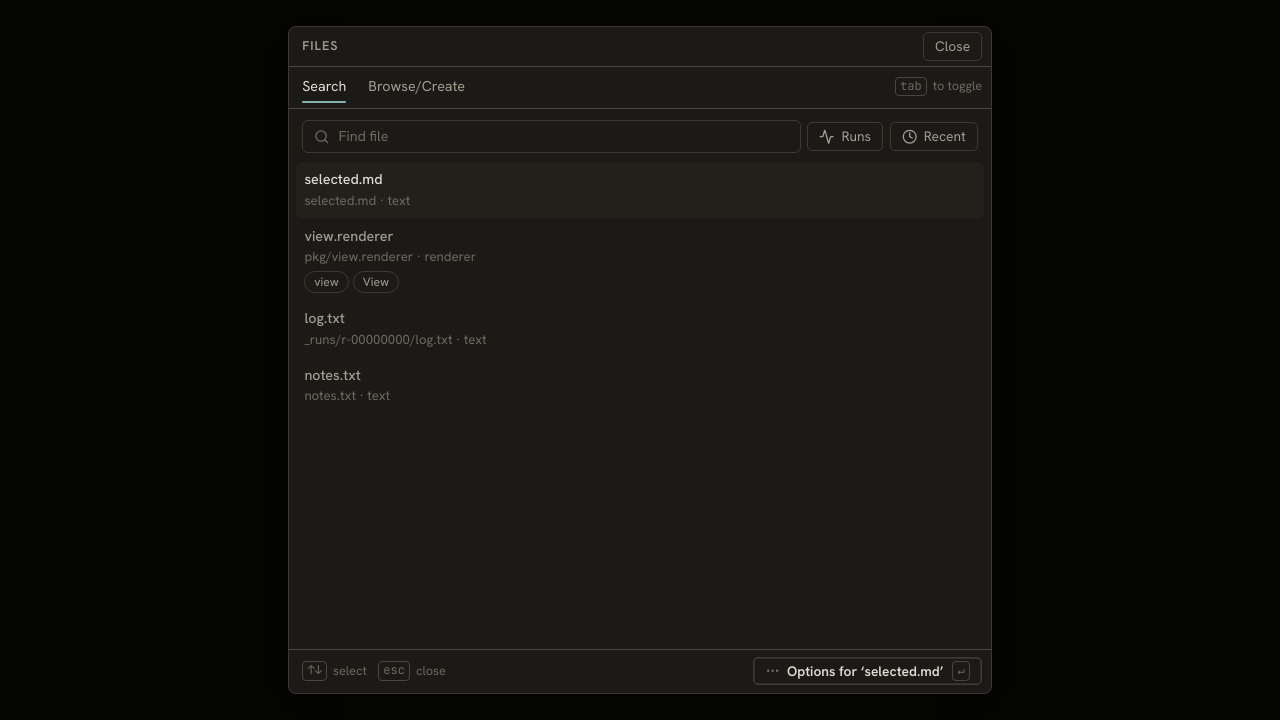
FilesPanel: Browse/Create › a click on New folder here names a folder a .collkeep keeps, listed and selected where it was made (P03)
The width and height of the screenshot is (1280, 720).
Press Tab in the dropdown, box [338,121,789,152]
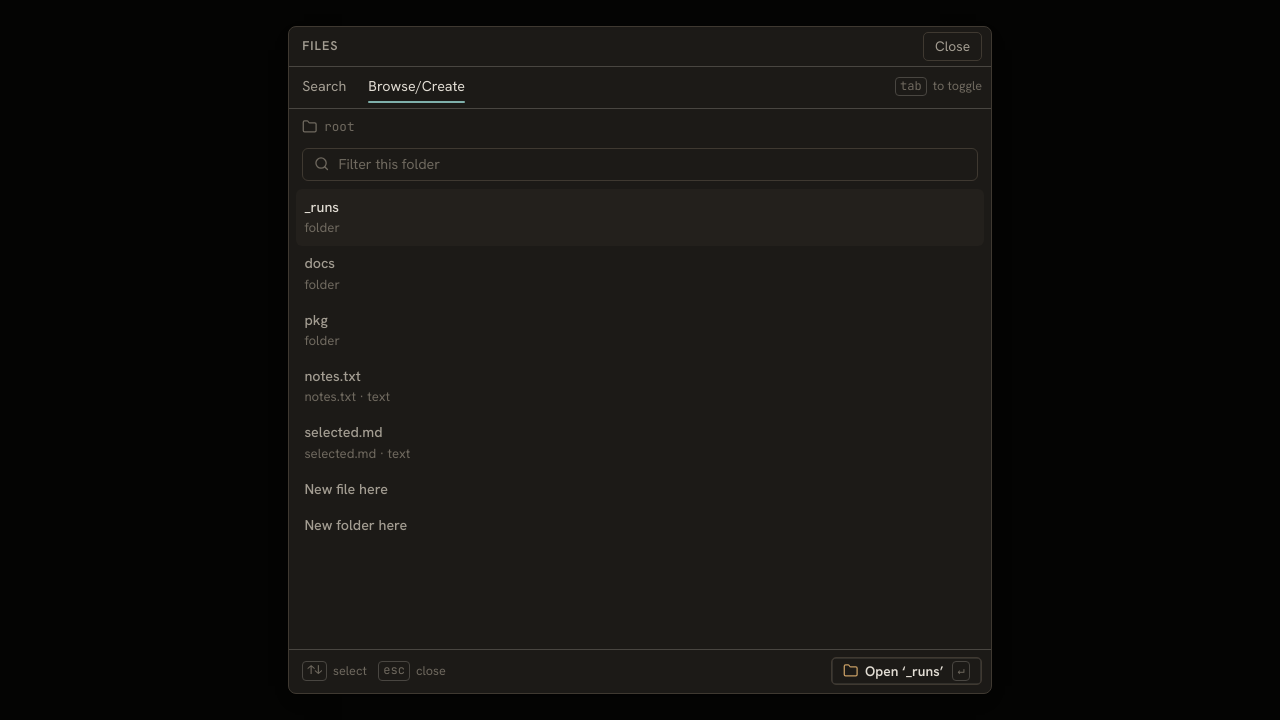
Click the option "New folder here" at (356, 525), box [304,516,407,534]
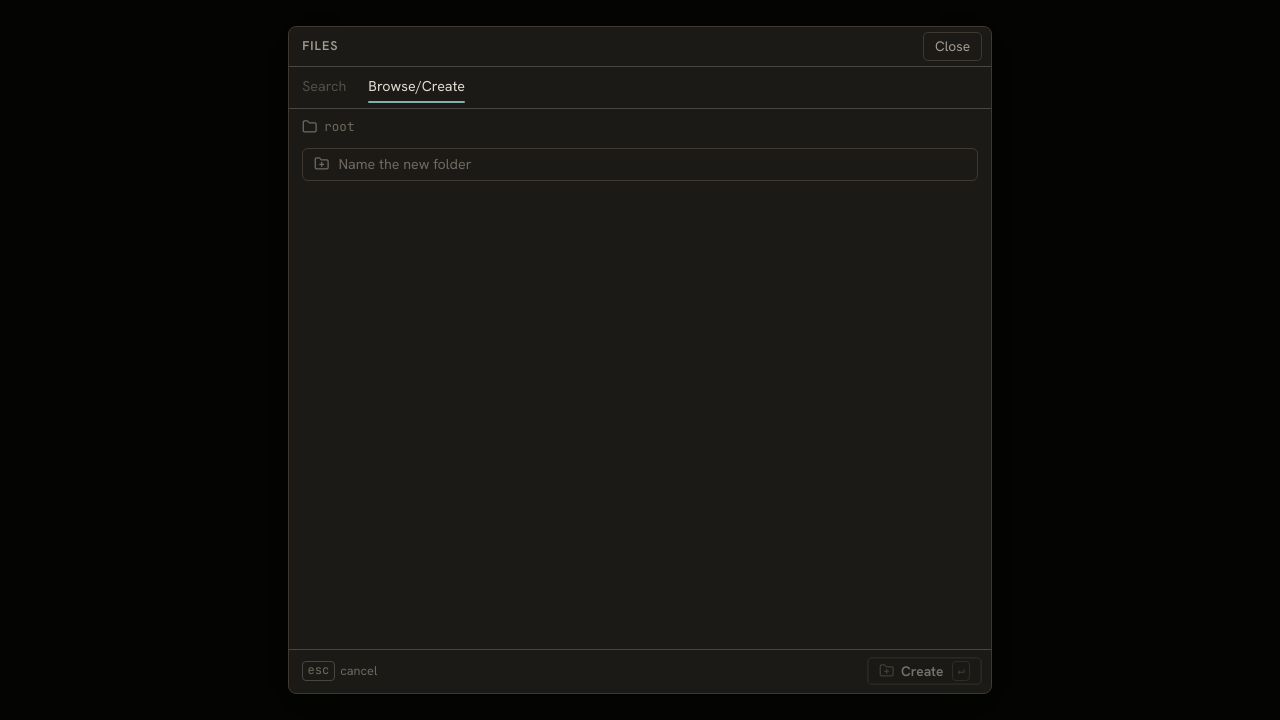
Type "assets" into the dropdown labelled "Name the new folder" at (652, 164), box [338,149,966,180]
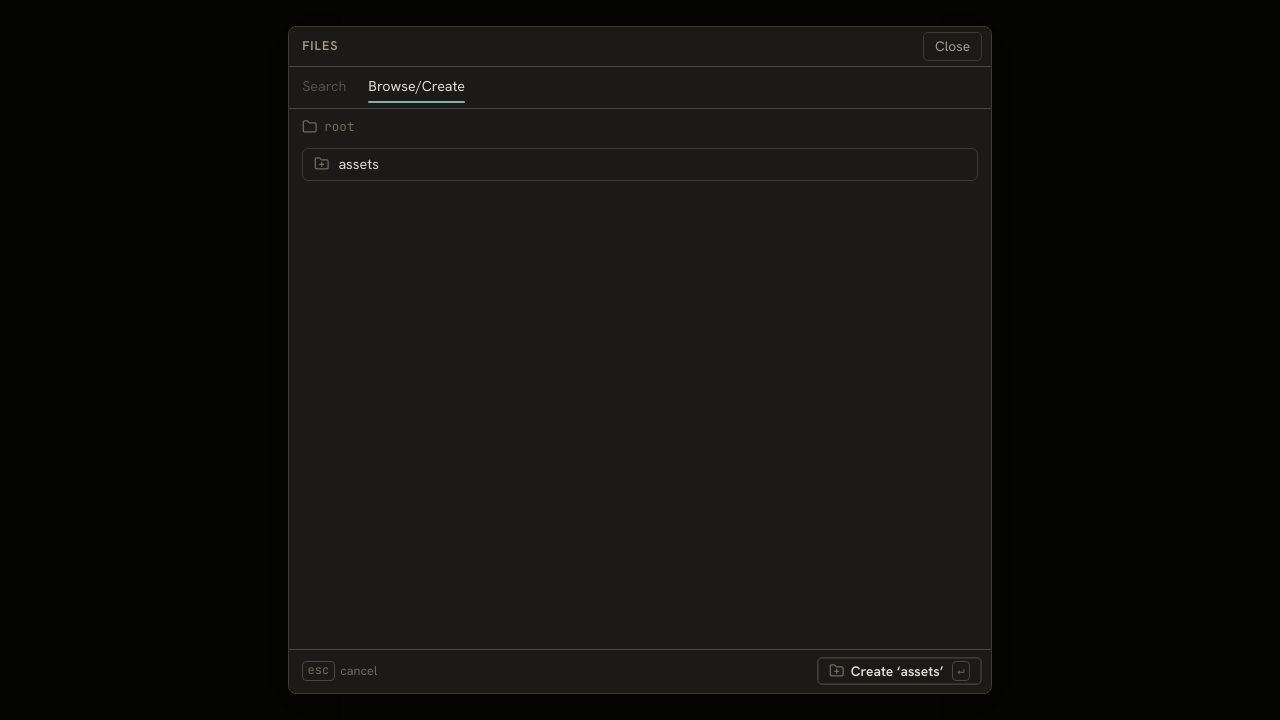
Check: the button with test id "cell-panel-primary" shows "Create ‘assets’"
Press the mouse on the button with test id "cell-panel-primary" at (900, 671), box [817,657,982,685]
Click the button with test id "cell-panel-primary" at (900, 671), box [817,657,982,685]
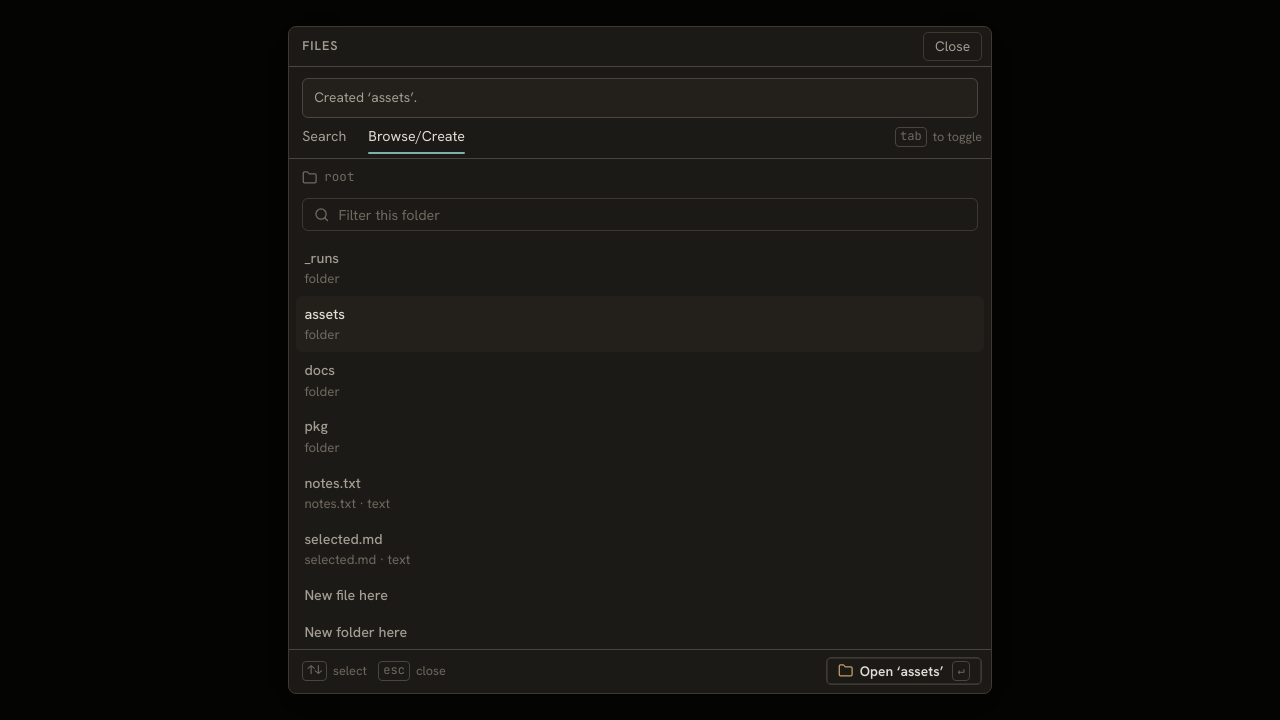
Check: the message reads "Created ‘assets’.", box [314,88,417,106]
Press Enter in the dropdown, box [338,199,966,230]
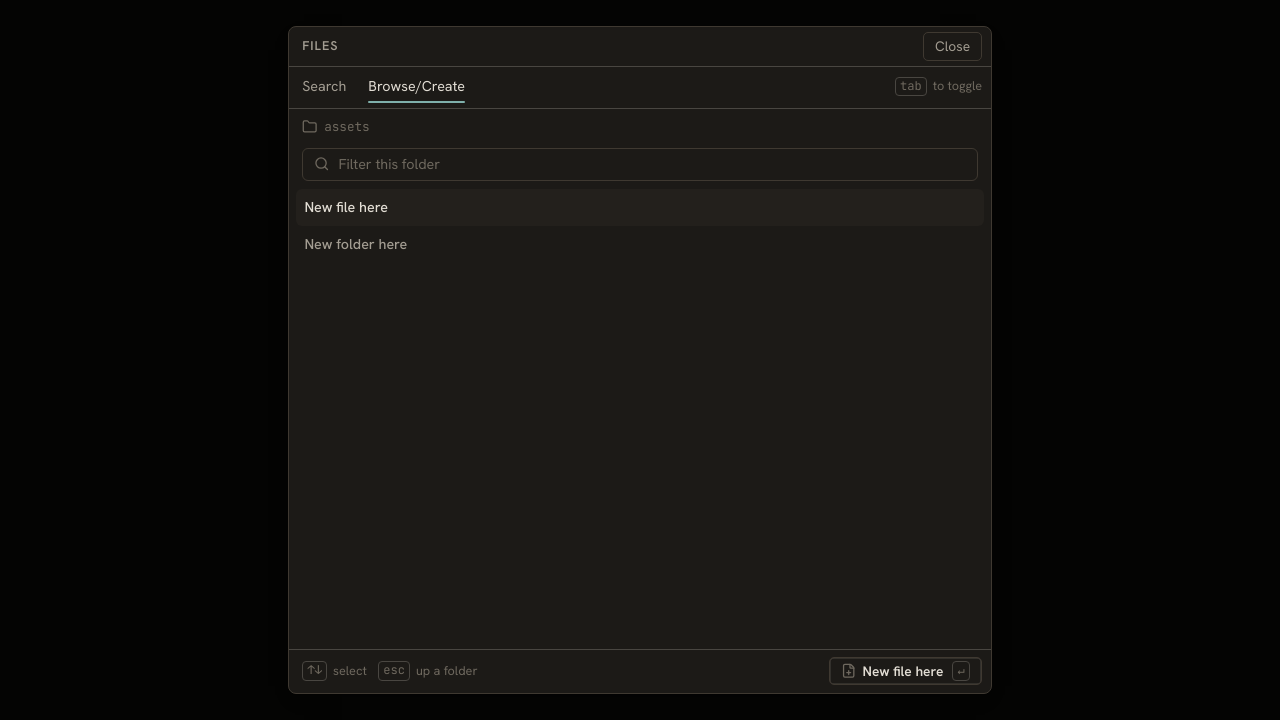
Check: the element with test id "cell-panel-location" reads "assets", box [324,118,370,135]
Check: the message "Created ‘assets’." is gone
